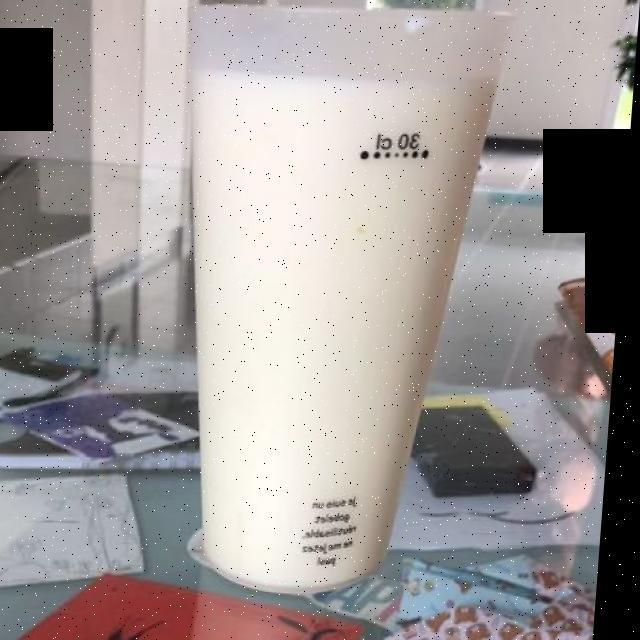milk: (198, 34, 490, 565)
